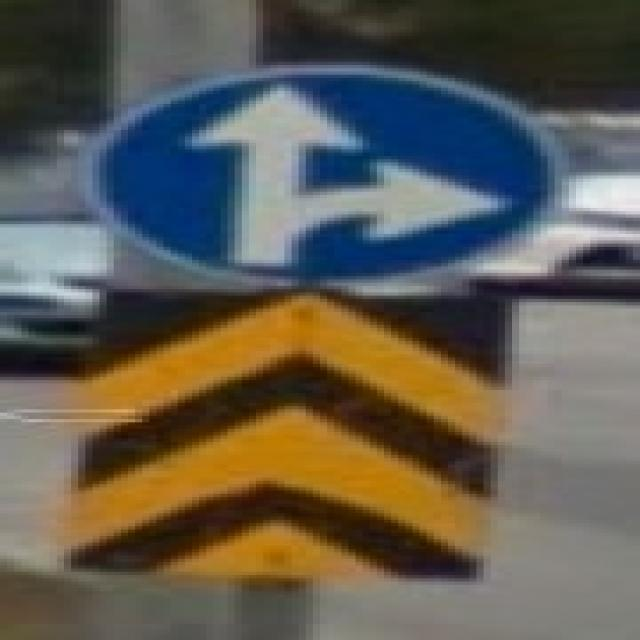Straight or Right: (90, 71, 552, 272)
